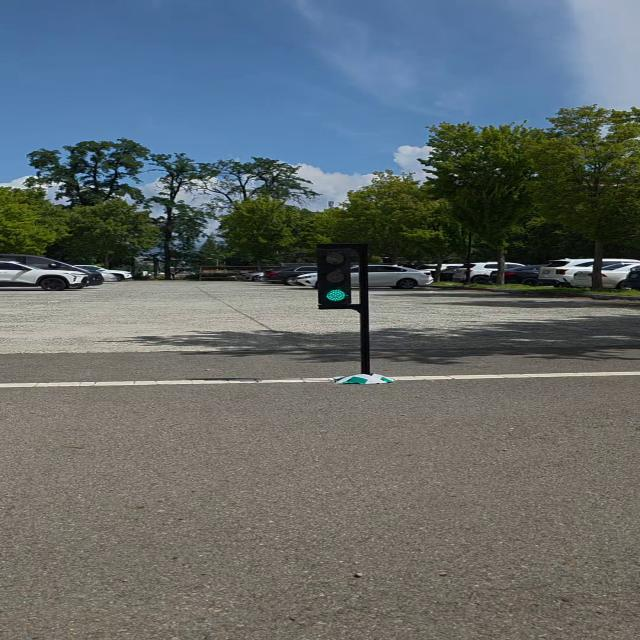green: (316, 242, 362, 308)
